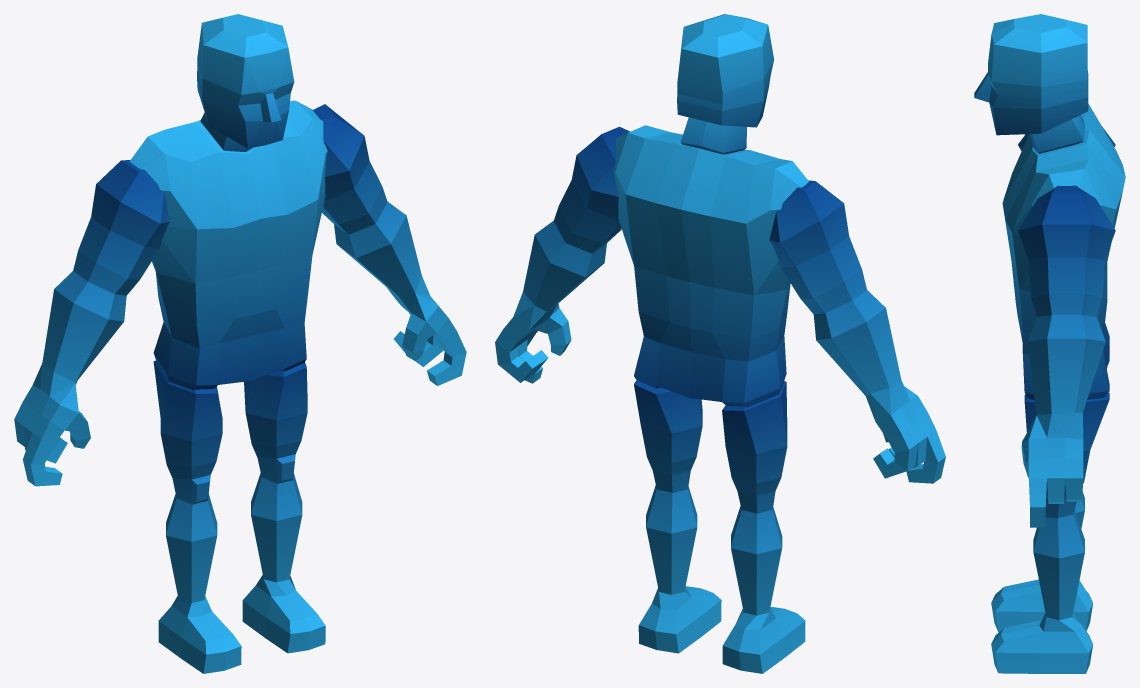
Rendered from dummy.fbx.
The picture shows the model from 3 angles, left to right: view 1: azimuth 30°, elevation 25°; view 2: azimuth 150°, elevation 25°; view 3: azimuth 270°, elevation 25°; orthographic projection.
Parts seen in each view (by area): view 1: dummy; view 2: dummy; view 3: dummy.
Boxes of the visible parts, x1,y1,x2,y2 form: dummy: (14,14,466,673); dummy: (495,14,945,673); dummy: (974,14,1125,673).
Size of the model in its own units: 371 by 503 by 111.
